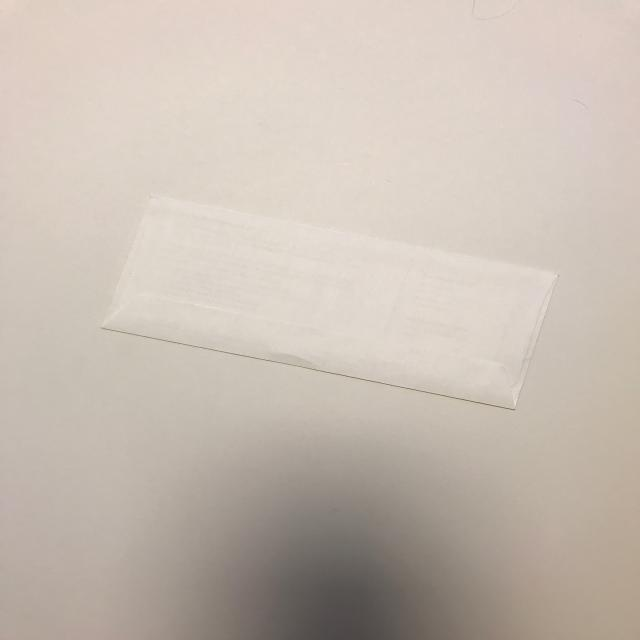paper: (100, 194, 560, 410)
